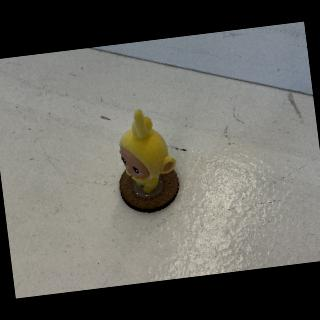teletubby: (119, 110, 176, 193)
